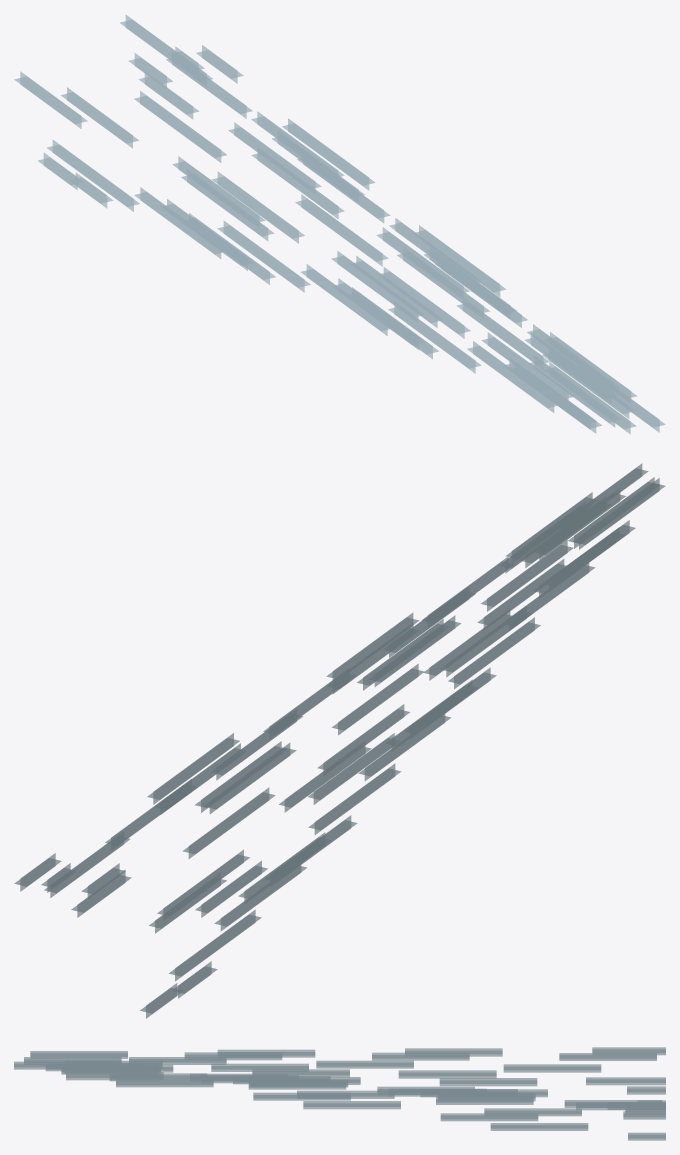
File: wp_water_344.obj
3 views of the same model, one above another, from view 1: azimuth 30°, elevation 25°; view 2: azimuth 150°, elevation 25°; view 3: azimuth 270°, elevation 25° (orthographic). The views are drawn at different scales.
Size of the model in its own units: 0.3322 by 0.2715 by 1.6.
1 material, 1 textured.
